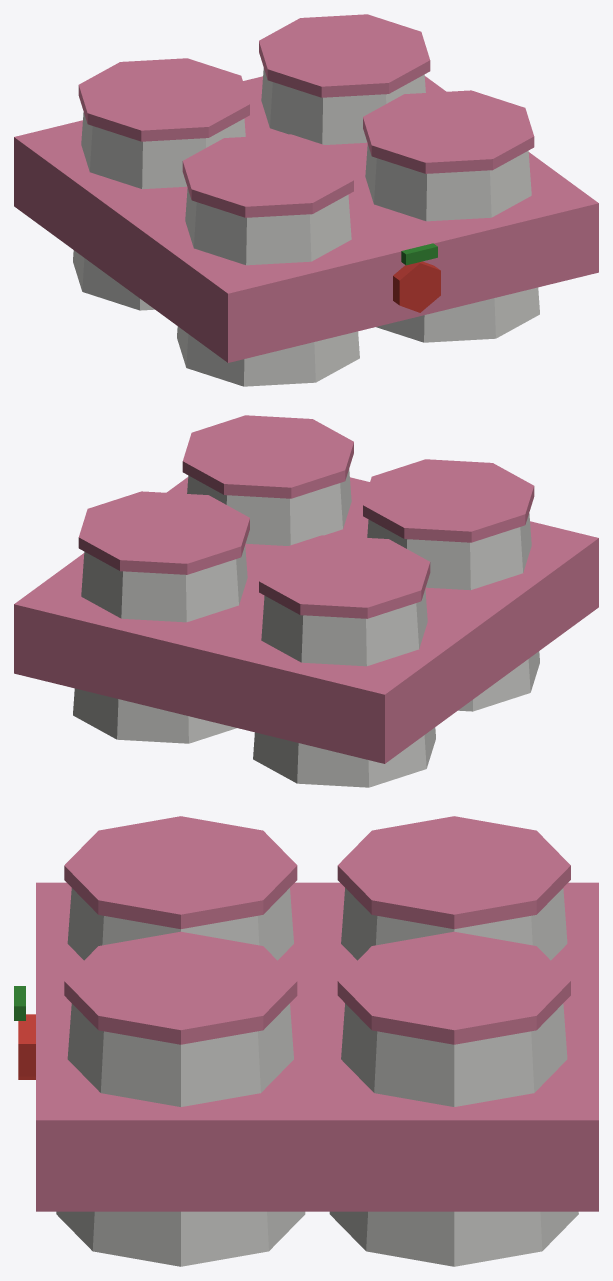
File: hh_sua_chua.glb
3 renders of one model, top to bottom at view 1: azimuth 30°, elevation 25°; view 2: azimuth 150°, elevation 25°; view 3: azimuth 270°, elevation 25°, orthographic. The views are drawn at different scales.
Visible parts, largest first — view 1: hh_sua_chua; view 2: hh_sua_chua; view 3: hh_sua_chua.
Boxes of the visible parts, left/top/right/bottom form: hh_sua_chua: left=14, top=14, right=598, bottom=386; hh_sua_chua: left=14, top=415, right=598, bottom=787; hh_sua_chua: left=14, top=816, right=598, bottom=1266.
Size of the model in its own units: 0.14 by 0.064 by 0.1455.
